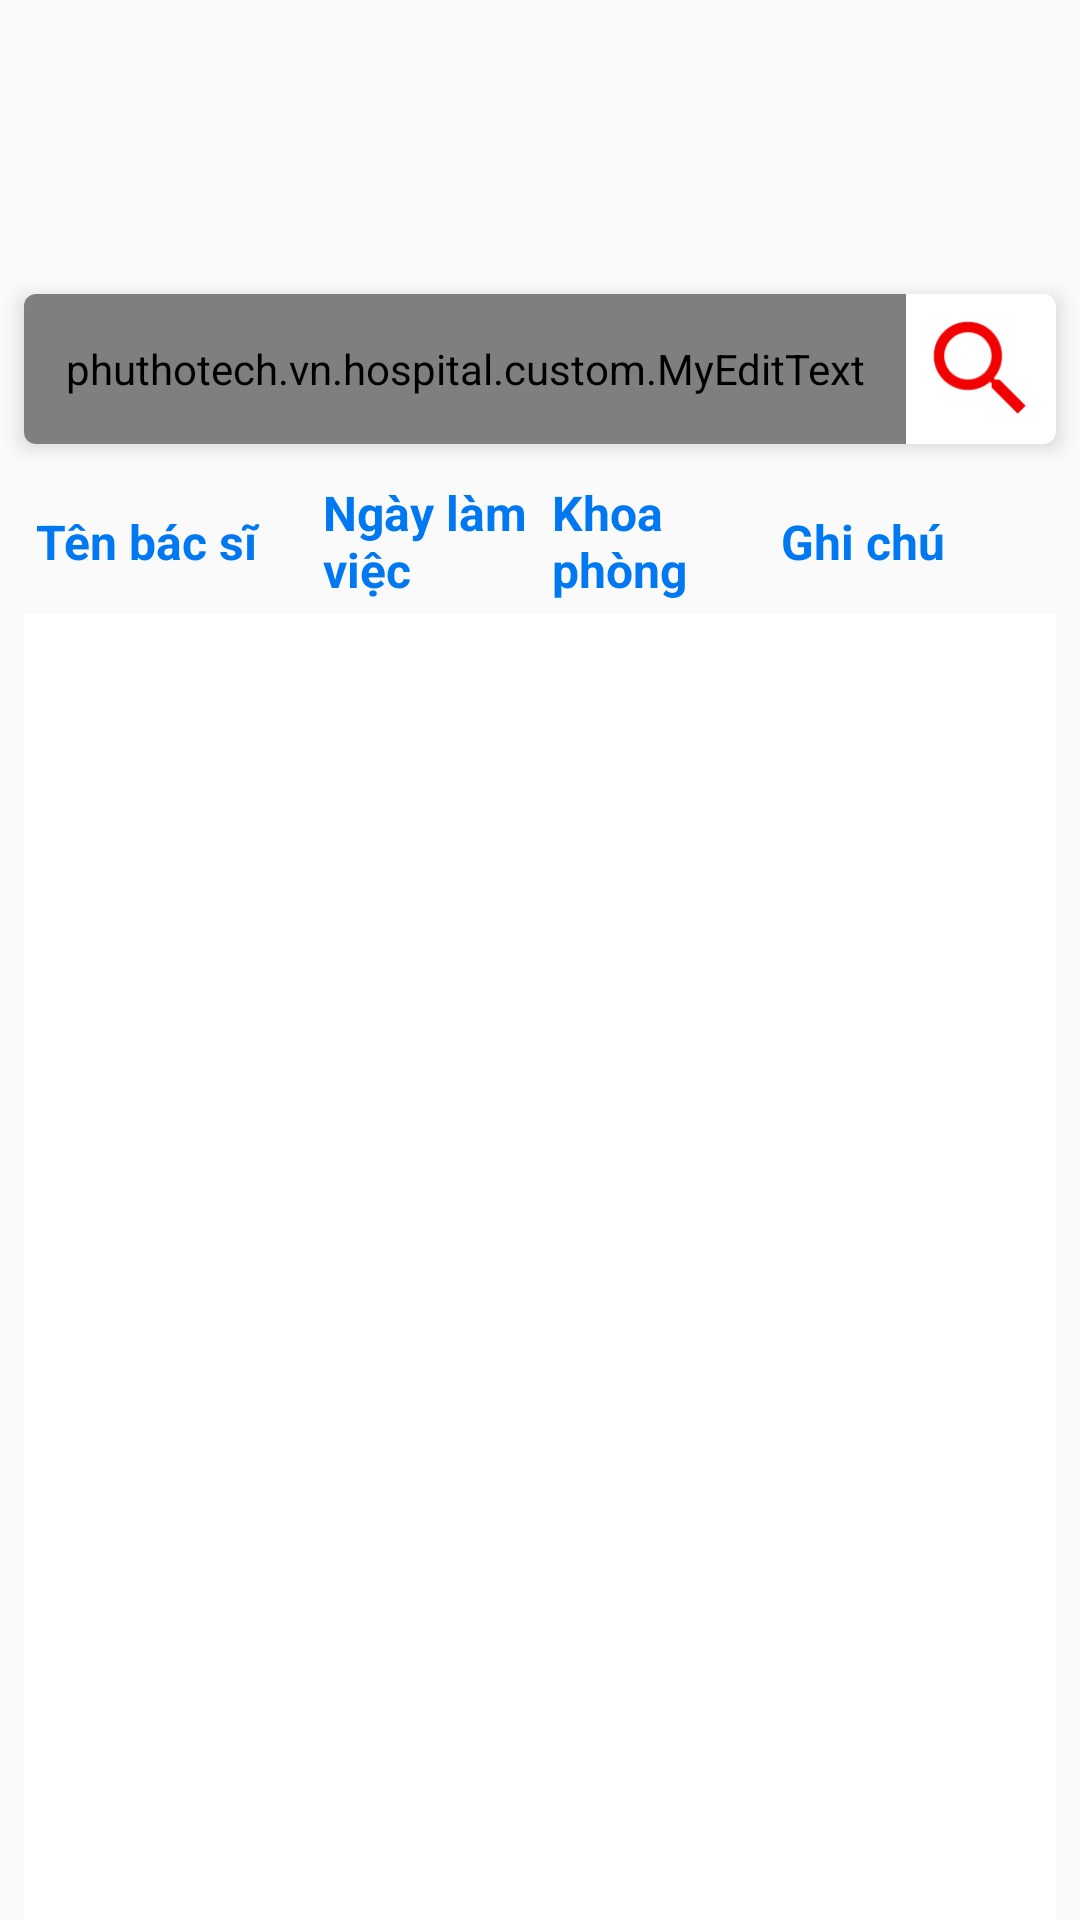

Screen size 1080 x 1920. Icon name, then its center in pixels as point (x, y):
search: point (981, 369)
